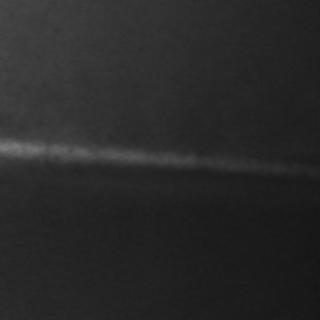scratches: (0, 133, 274, 173)
